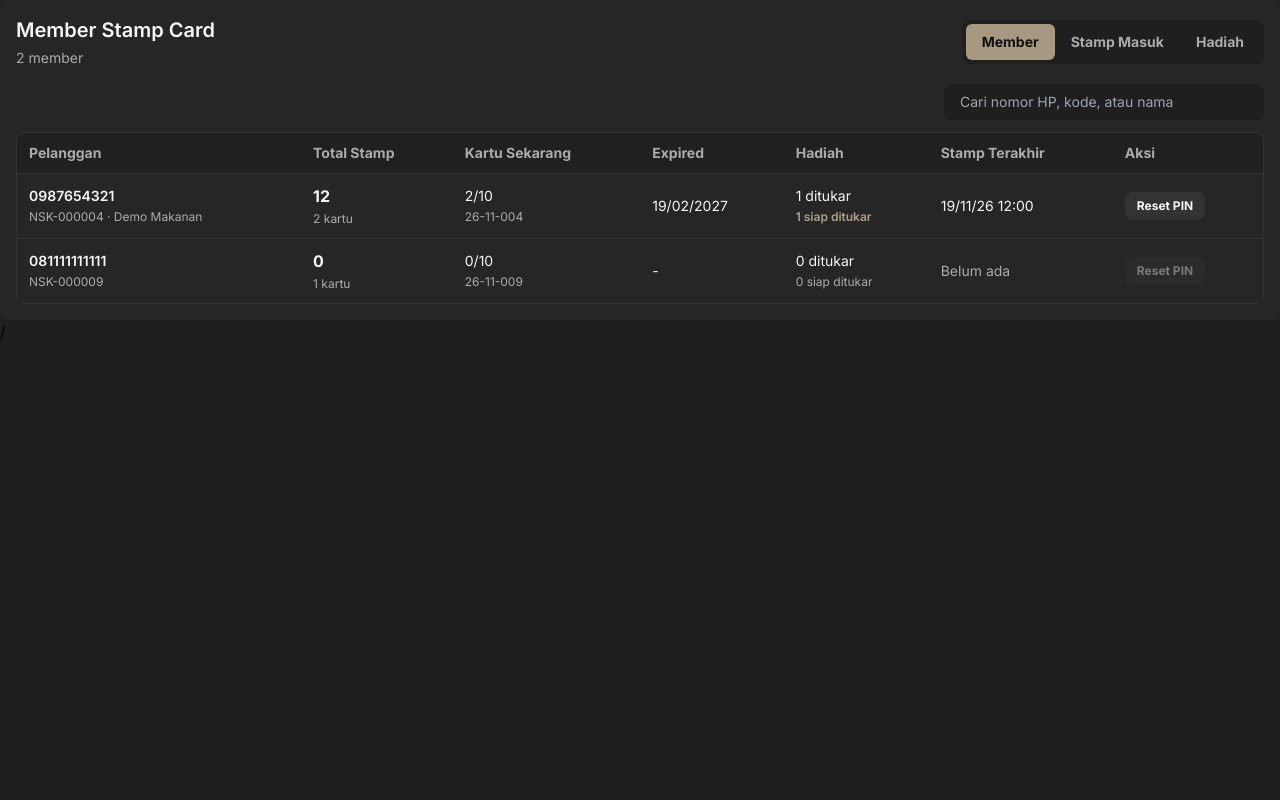
Test: program promo › Member Stamp Card › Member › resets a member's PIN only after Reset PIN is confirmed
expect the column heading "Aksi" is shown: met, box [1113, 133, 1263, 174]
expect the button with aria-label "Reset PIN 081111111111" is disabled: met, box [1125, 257, 1205, 285]
Click the button with aria-label "Reset PIN 0987654321". click: {"x": 1165, "y": 206}
box: [1125, 192, 1205, 220]
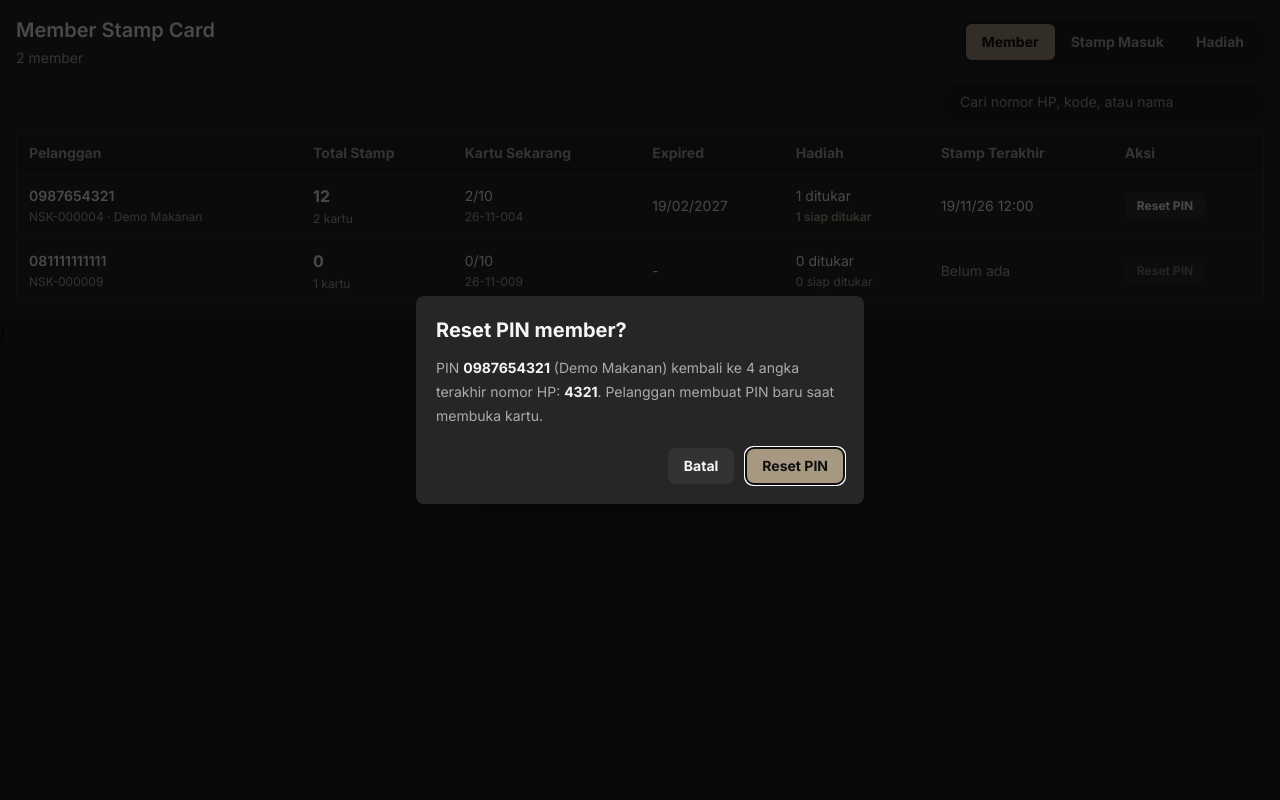
expect the dialog "Reset PIN member?" shows "PIN 0987654321 (Demo Makanan) kembali ke 4 angka terakhir nomor HP: 4321. Pelanggan membuat PIN baru saat membuka kartu.": met, box [416, 296, 864, 504]
Batal: nothing is reset.
Click the button "Batal". click: {"x": 701, "y": 466}
box: [668, 448, 734, 484]
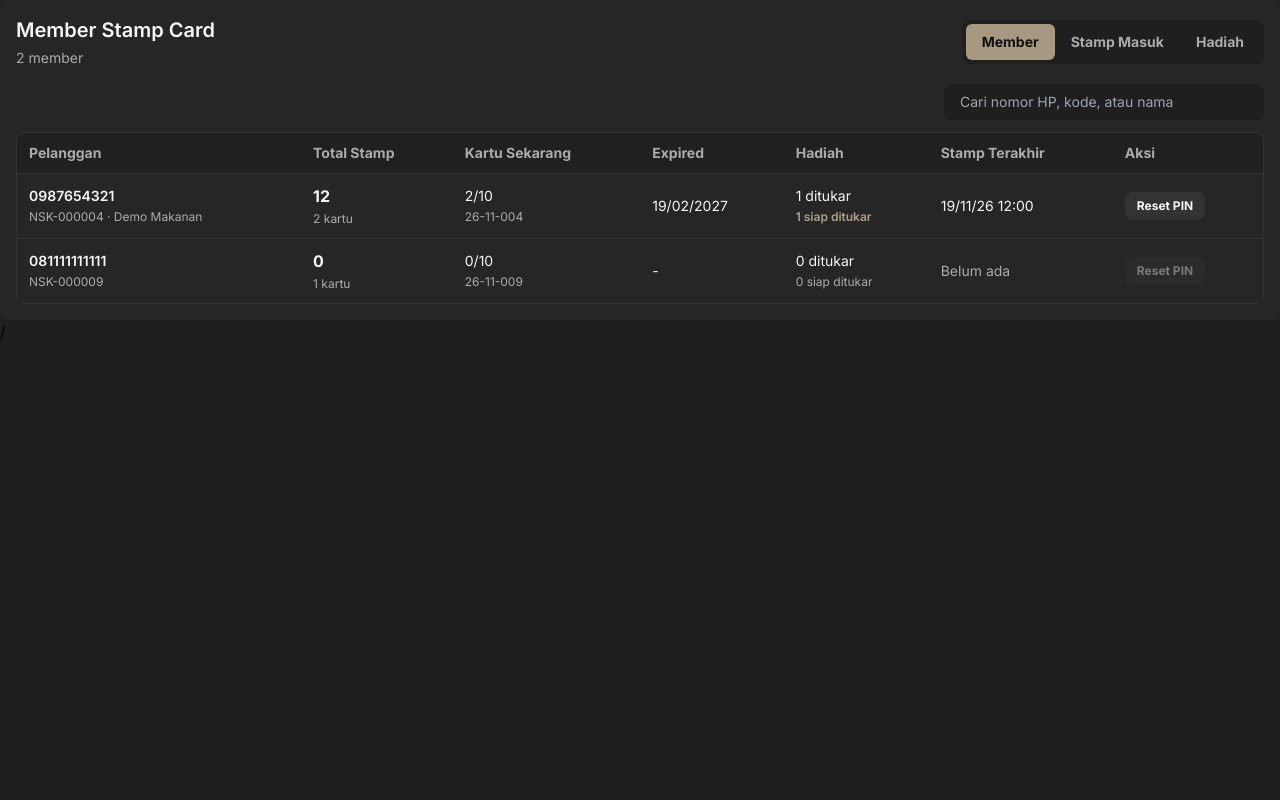
expect the heading "Reset PIN member?" is gone: met
Click the button with aria-label "Reset PIN 0987654321". click: {"x": 1165, "y": 206}
box: [1125, 192, 1205, 220]
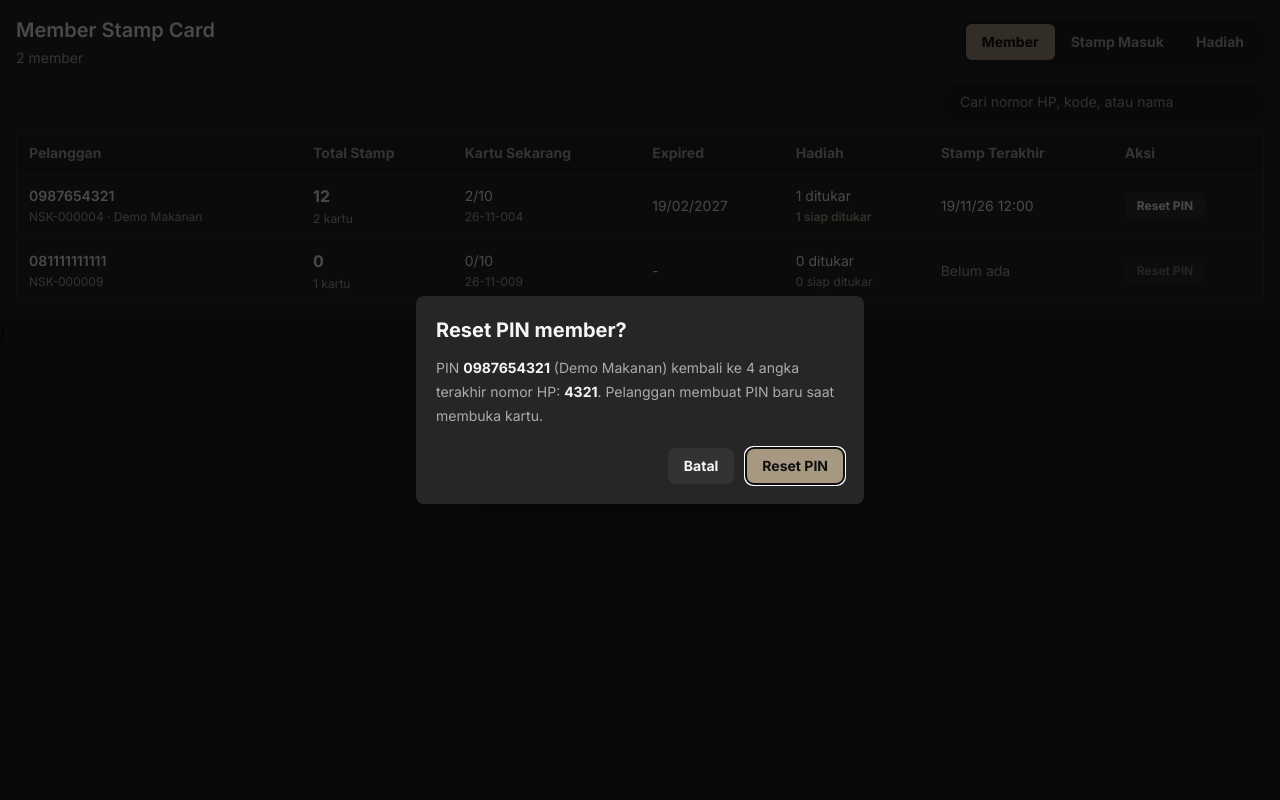
Click the button "Reset PIN". click: {"x": 795, "y": 466}
box: [746, 448, 844, 484]
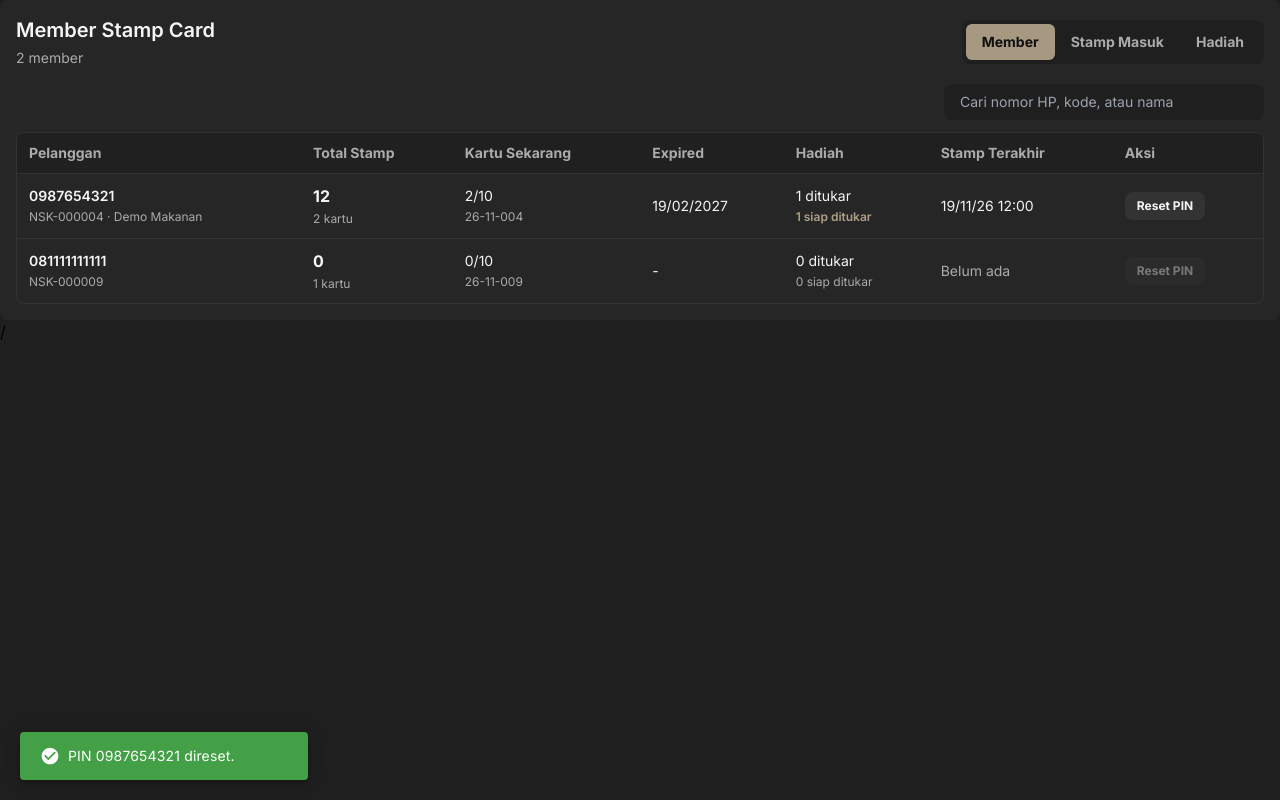
expect the text "PIN 0987654321 direset." is shown: met, box [40, 746, 235, 766]
expect the heading "Reset PIN member?" is gone: met
